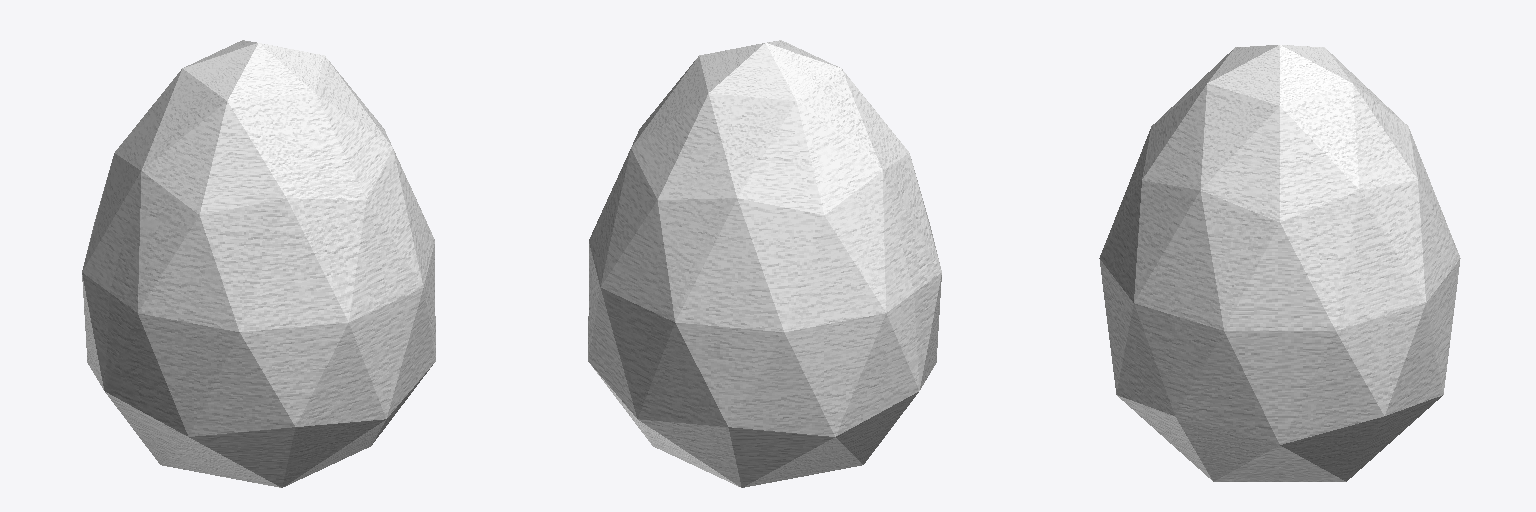
3 views of the same model, side by side, from view 1: azimuth 30°, elevation 25°; view 2: azimuth 150°, elevation 25°; view 3: azimuth 270°, elevation 25° (orthographic).
Parts seen in each view (by area): view 1: GeoSphere001; view 2: GeoSphere001; view 3: GeoSphere001.
Part boxes in pixels (left/top/right/bottom): GeoSphere001: left=82, top=40, right=435, bottom=487; GeoSphere001: left=588, top=40, right=941, bottom=487; GeoSphere001: left=1099, top=45, right=1460, bottom=481.
Bounding box in the file's own units: 41.26 × 55.29 × 42.57.
Materials: 1 (1 with a texture image).